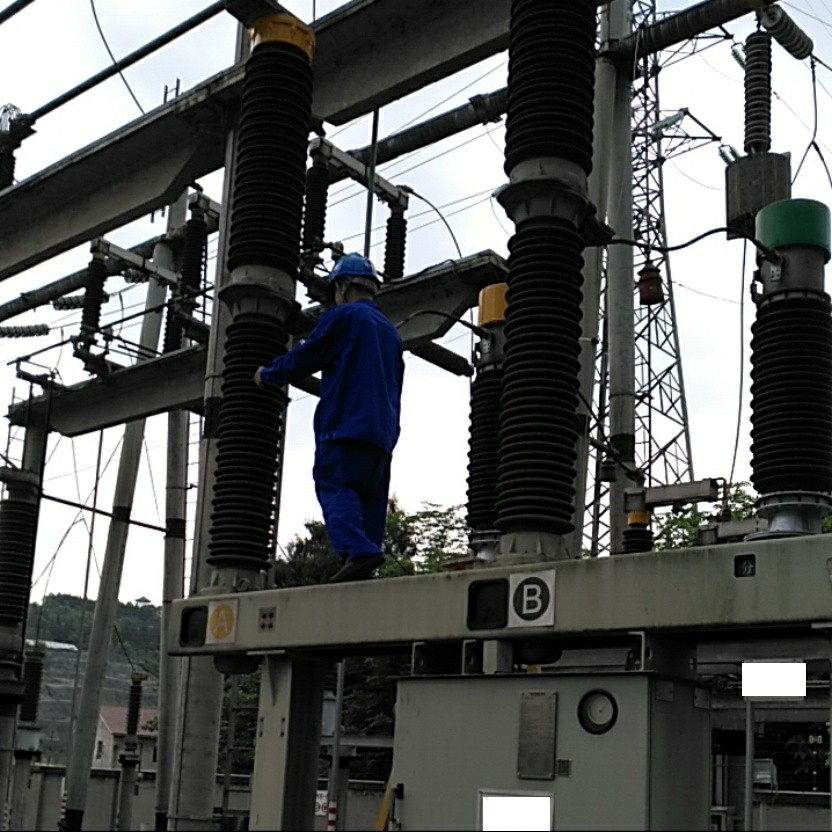hat: (323, 250, 384, 309)
